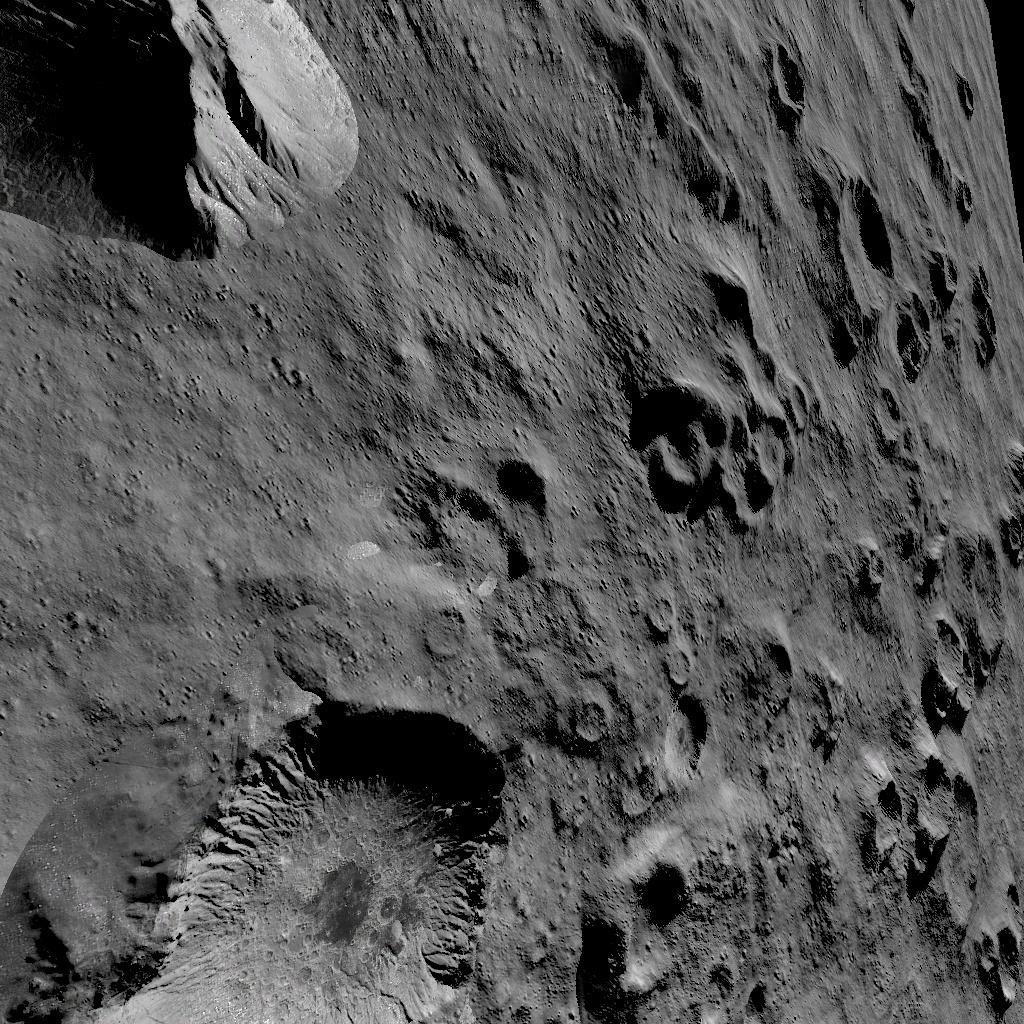Boulders: (3, 0, 363, 260)
Crater: (3, 700, 522, 1024), (563, 838, 770, 1024), (611, 356, 802, 537), (839, 736, 973, 918), (391, 460, 548, 578), (775, 166, 884, 320), (625, 596, 714, 774), (890, 244, 996, 382), (891, 612, 988, 726), (957, 438, 1024, 570), (758, 40, 828, 124), (947, 926, 1024, 1000), (731, 632, 784, 714), (401, 604, 464, 665), (829, 534, 877, 602), (549, 694, 602, 750), (849, 388, 892, 456), (945, 78, 980, 126), (942, 178, 976, 222), (891, 0, 925, 19)
Plan surface: (0, 268, 379, 688), (391, 2, 600, 452)
